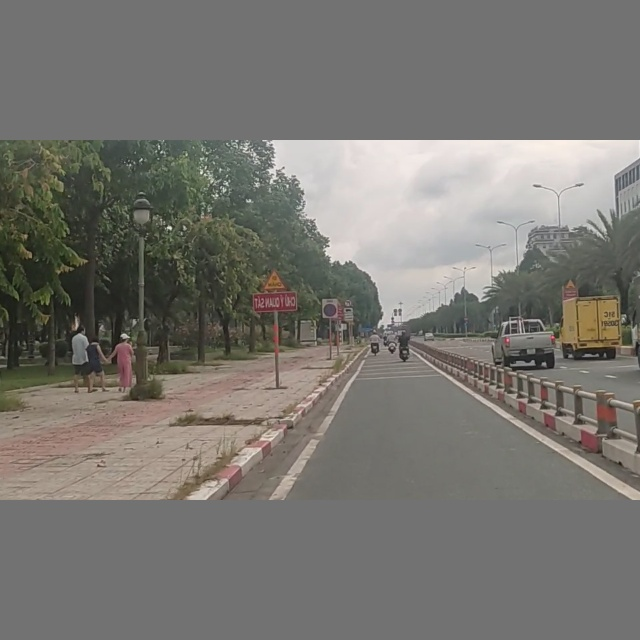P.123b: (343, 299, 353, 307)
P.130: (321, 297, 339, 319)
S.505a*Xe tai: (343, 306, 355, 322)
W.245a: (262, 269, 288, 291)
